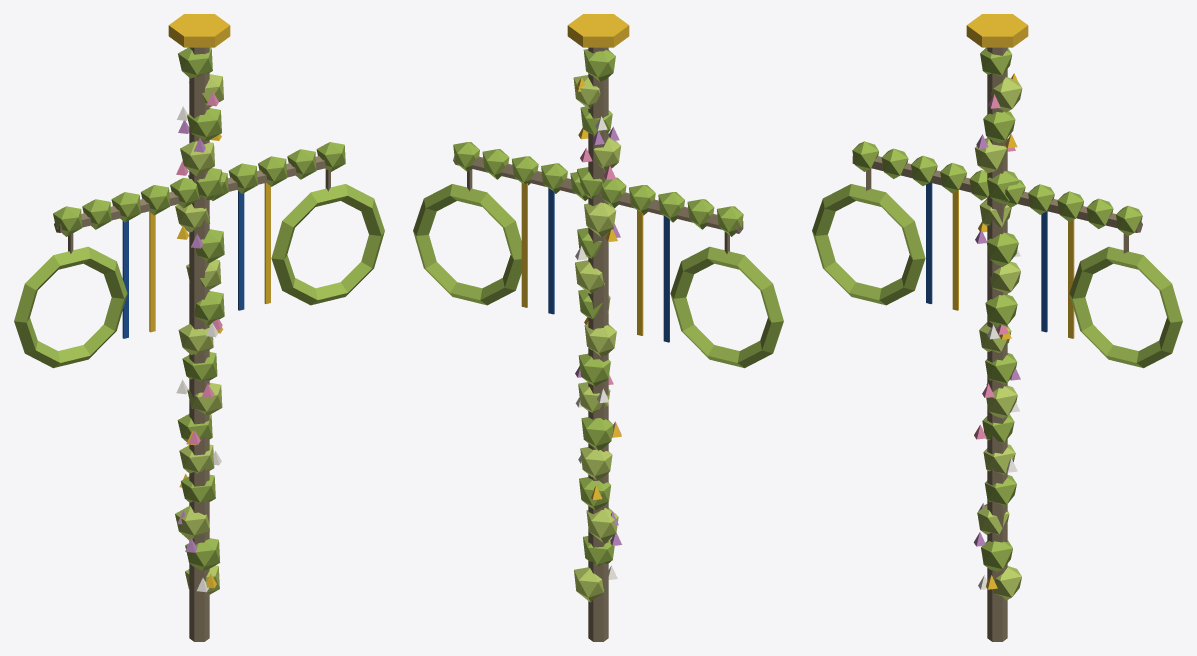
The model's file is midsommarstang.glb.
3 renders of one model, left to right at view 1: azimuth 30°, elevation 25°; view 2: azimuth 150°, elevation 25°; view 3: azimuth 330°, elevation 25°, orthographic.
Visible parts, largest first — view 1: midsommarstang; view 2: midsommarstang; view 3: midsommarstang.
Boxes of the visible parts, <box> form: midsommarstang: <box>14,14,384,641</box>; midsommarstang: <box>413,14,783,641</box>; midsommarstang: <box>812,14,1182,641</box>.
Size of the model in its own units: 4.18 by 6.6 by 0.6.
